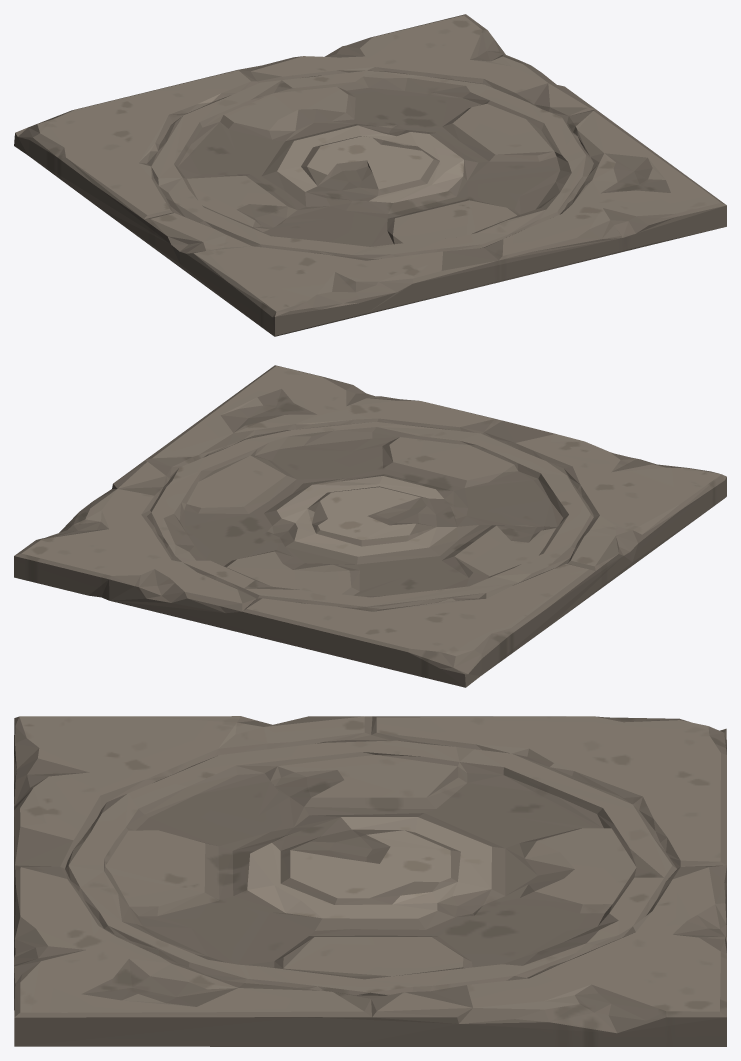
The model's file is floor.glb.
3 views of the same model, one above another, from view 1: azimuth 30°, elevation 25°; view 2: azimuth 150°, elevation 25°; view 3: azimuth 270°, elevation 25° (orthographic). The views are drawn at different scales.
Parts seen in each view (by area): view 1: SM_Env_Dwarf_Floor_01; view 2: SM_Env_Dwarf_Floor_01; view 3: SM_Env_Dwarf_Floor_01.
Boxes of the visible parts, left/top/right/bottom form: SM_Env_Dwarf_Floor_01: left=14, top=14, right=726, bottom=336; SM_Env_Dwarf_Floor_01: left=14, top=365, right=726, bottom=687; SM_Env_Dwarf_Floor_01: left=14, top=716, right=726, bottom=1046.
Size of the model in its own units: 5 by 0.2505 by 5.
Materials: 1 (1 with a texture image).
